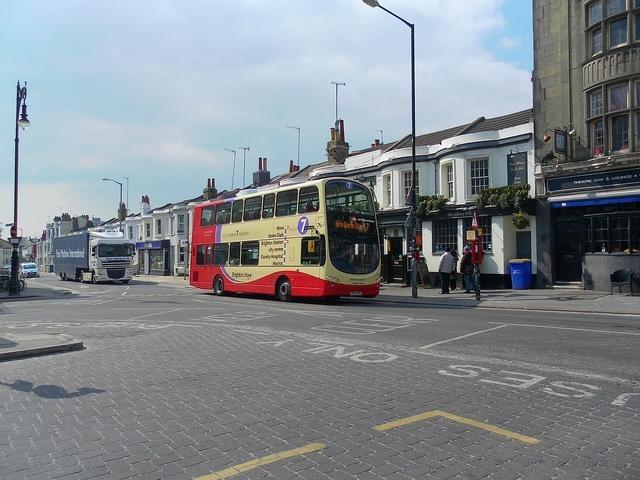bicycle: (0, 272, 24, 292)
bus: (188, 179, 376, 304)
car: (20, 262, 40, 278), (2, 266, 12, 274)
truck: (44, 228, 140, 290)
